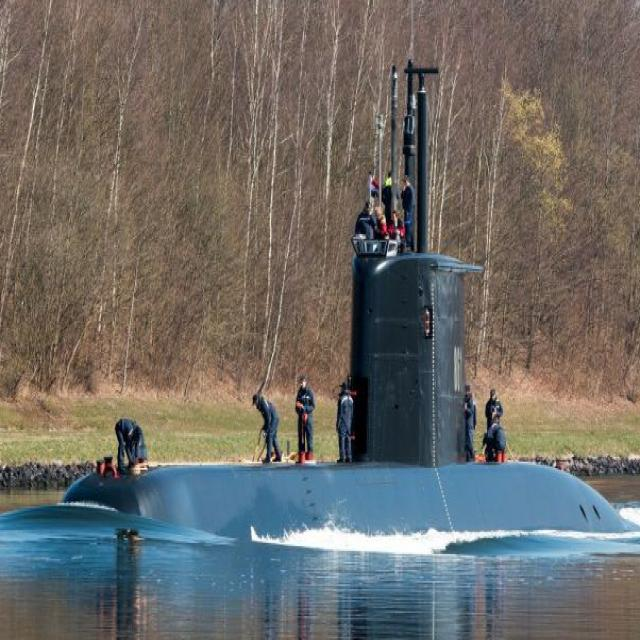submarine: (1, 58, 640, 528)
